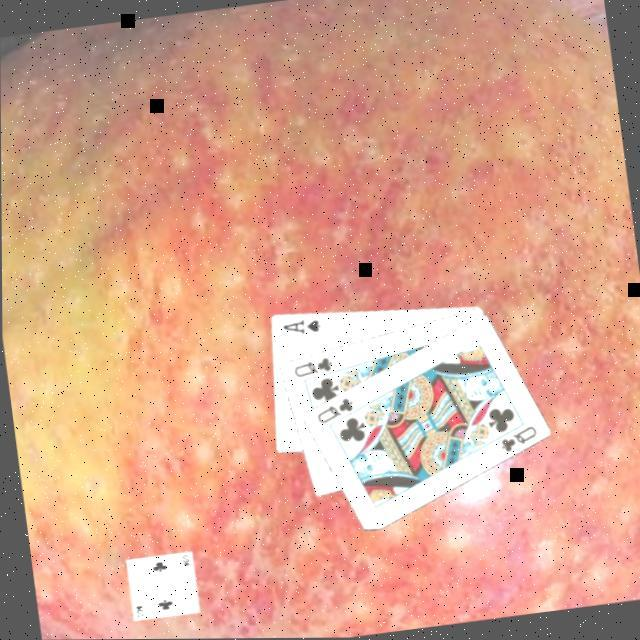AS: (276, 315, 322, 342)
QC: (309, 395, 356, 429), (493, 424, 539, 458), (287, 355, 334, 382)
